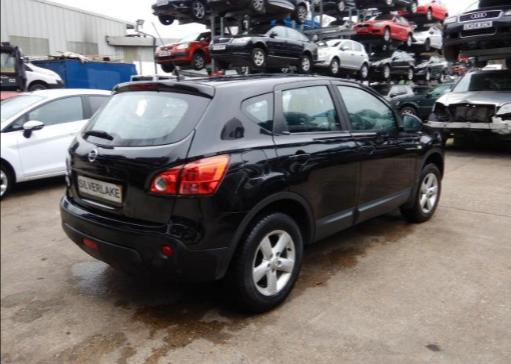Dent: (165, 217, 202, 243)
